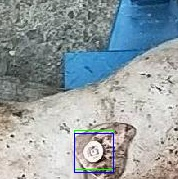text: (74, 130, 113, 169)
